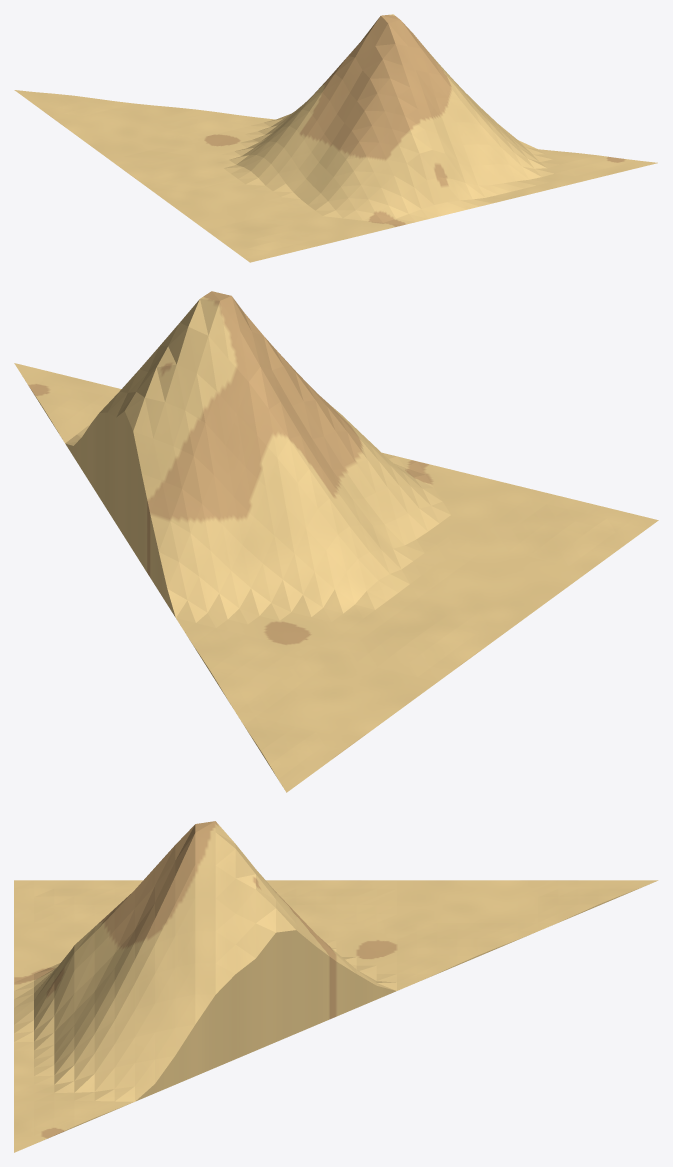
Rendered from Desert_Mountains_10_NW.obj.
3 views of the same model, one above another, from view 1: azimuth 30°, elevation 25°; view 2: azimuth 150°, elevation 25°; view 3: azimuth 270°, elevation 25° (orthographic). The views are drawn at different scales.
Bounding box in the file's own units: 10 × 3.35 × 10.
1 material, 1 textured.
